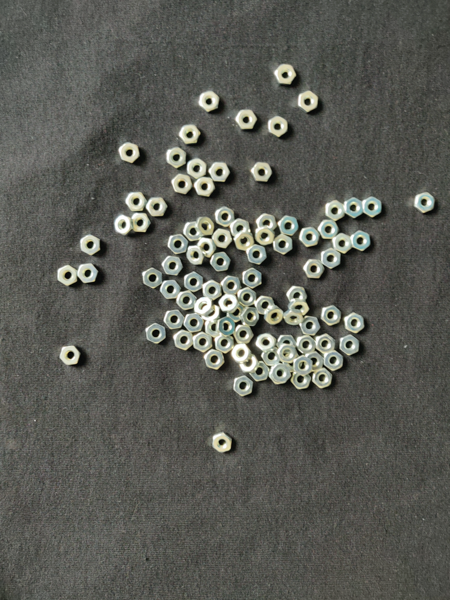nut: (414, 192, 436, 214), (275, 64, 297, 85), (298, 91, 319, 113), (80, 234, 101, 256), (233, 375, 254, 397), (199, 91, 220, 112), (255, 225, 276, 246), (215, 207, 236, 228), (176, 290, 197, 311), (321, 305, 342, 326), (312, 368, 333, 389), (212, 432, 233, 453), (167, 147, 187, 169), (209, 162, 231, 182), (251, 162, 273, 182), (146, 197, 168, 217), (77, 263, 99, 283), (58, 265, 78, 287), (162, 256, 184, 276), (300, 316, 322, 336), (256, 333, 278, 353), (268, 116, 288, 137), (180, 125, 201, 145), (119, 143, 140, 163), (187, 158, 207, 179), (195, 177, 216, 197), (172, 174, 193, 194), (126, 192, 147, 212), (60, 346, 81, 366), (278, 216, 299, 236), (333, 233, 353, 254), (273, 234, 293, 255), (246, 245, 267, 265), (212, 228, 233, 248), (183, 221, 204, 241), (168, 234, 189, 254), (197, 237, 217, 258), (210, 252, 231, 272), (143, 268, 163, 289), (243, 268, 263, 289), (221, 275, 241, 296), (345, 313, 365, 334), (164, 310, 185, 330), (146, 323, 166, 344), (193, 332, 213, 353), (205, 349, 225, 370), (315, 334, 336, 354), (340, 335, 360, 356), (324, 350, 344, 371), (250, 361, 270, 382), (294, 356, 314, 377), (230, 218, 252, 237), (160, 280, 182, 299), (351, 231, 371, 251), (322, 249, 342, 269), (234, 231, 254, 251), (194, 297, 214, 317), (174, 330, 194, 350), (231, 344, 251, 364), (304, 352, 324, 372), (236, 110, 257, 129), (114, 215, 133, 236), (318, 220, 339, 239), (299, 228, 320, 247), (304, 259, 325, 278), (203, 280, 222, 301), (184, 272, 203, 293), (217, 317, 236, 338), (256, 213, 278, 231), (288, 298, 310, 316), (132, 213, 151, 233), (363, 197, 382, 217), (345, 198, 364, 218), (196, 216, 215, 236), (187, 246, 207, 265), (238, 287, 257, 307), (256, 296, 276, 315), (184, 313, 204, 332), (240, 354, 260, 373), (278, 344, 298, 363), (283, 353, 303, 372), (272, 364, 292, 383), (219, 295, 240, 313), (326, 201, 345, 220), (265, 306, 284, 325), (215, 335, 234, 354), (277, 335, 296, 354), (297, 335, 316, 354), (206, 318, 224, 338), (234, 326, 254, 344), (262, 348, 282, 366), (292, 372, 312, 390), (287, 286, 308, 303), (240, 308, 259, 326), (227, 304, 245, 322), (202, 305, 221, 322), (284, 310, 304, 326)
